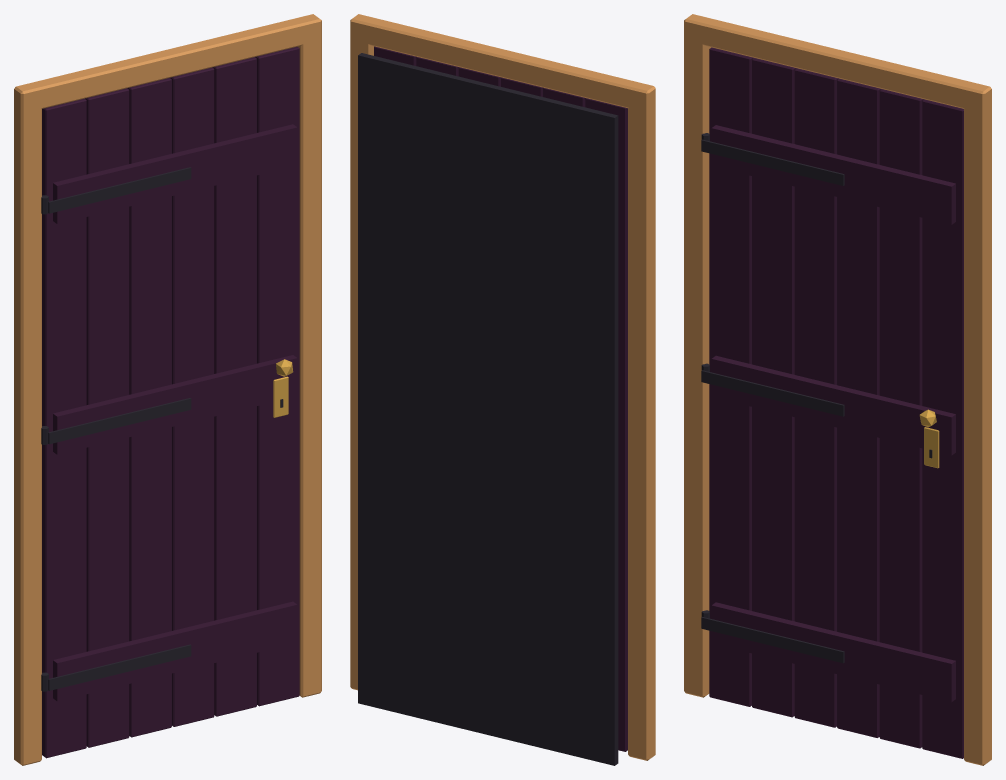
3 views of the same model, side by side, from view 1: azimuth 30°, elevation 25°; view 2: azimuth 150°, elevation 25°; view 3: azimuth 330°, elevation 25° (orthographic).
Visible parts, largest first — view 1: board_0, board_1, board_5, board_4, board_2, board_3, casing_l, casing_r, ledge_25, ledge_174, casing_head, ledge_102 (+4 smaller); view 2: stair_dark, casing_l, casing_head, board_0, casing_r; view 3: board_4, board_0, board_5, board_1, board_3, board_2, casing_r, casing_l, ledge_174, ledge_25, casing_head, ledge_102 (+4 smaller).
Part boxes in pixels (x1=…): board_0: x1=42, y1=98, x2=86, y2=758; board_1: x1=85, y1=88, x2=129, y2=747; board_5: x1=255, y1=46, x2=299, y2=706; board_4: x1=212, y1=57, x2=256, y2=716; board_2: x1=127, y1=78, x2=171, y2=737; board_3: x1=170, y1=67, x2=214, y2=726; casing_l: x1=14, y1=89, x2=41, y2=765; casing_r: x1=298, y1=19, x2=321, y2=697; ledge_25: x1=53, y1=601, x2=297, y2=701; ledge_174: x1=53, y1=124, x2=297, y2=223; casing_head: x1=14, y1=14, x2=321, y2=112; ledge_102: x1=53, y1=355, x2=297, y2=454; stair_dark: x1=358, y1=53, x2=618, y2=765; casing_l: x1=628, y1=86, x2=655, y2=760; casing_head: x1=350, y1=14, x2=655, y2=111; board_0: x1=585, y1=98, x2=627, y2=751; casing_r: x1=350, y1=21, x2=373, y2=690; board_4: x1=879, y1=89, x2=923, y2=748; board_0: x1=709, y1=47, x2=753, y2=706; board_5: x1=922, y1=99, x2=963, y2=758; board_1: x1=752, y1=58, x2=796, y2=717; board_3: x1=837, y1=78, x2=881, y2=737; board_2: x1=794, y1=68, x2=838, y2=727; casing_r: x1=964, y1=87, x2=991, y2=765; casing_l: x1=684, y1=20, x2=711, y2=697; ledge_174: x1=711, y1=125, x2=955, y2=224; ledge_25: x1=711, y1=602, x2=955, y2=701; casing_head: x1=684, y1=14, x2=991, y2=112; ledge_102: x1=711, y1=355, x2=955, y2=455.
Bounding box in the file's own units: 0.99 × 2.12 × 0.1938.
